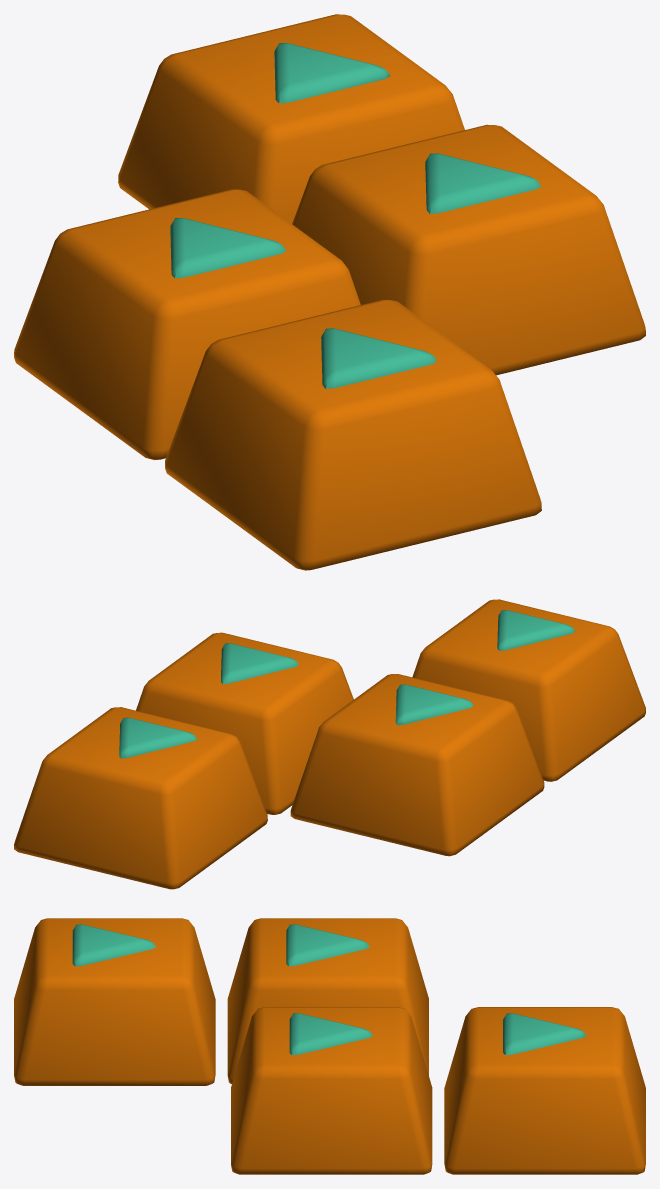
File: Z_piece up_low poly.fbx
3 views of the same model, one above another, from view 1: azimuth 30°, elevation 25°; view 2: azimuth 150°, elevation 25°; view 3: azimuth 270°, elevation 25° (orthographic). The views are drawn at different scales.
Parts seen in each view (by area): view 1: Cube.067; view 2: Cube.067; view 3: Cube.067.
Boxes of the visible parts, <box> form: Cube.067: <box>14,14,645,570</box>; Cube.067: <box>14,599,645,889</box>; Cube.067: <box>14,918,645,1174</box>.
Size of the model in its own units: 41.69 by 7.84 by 27.17.
